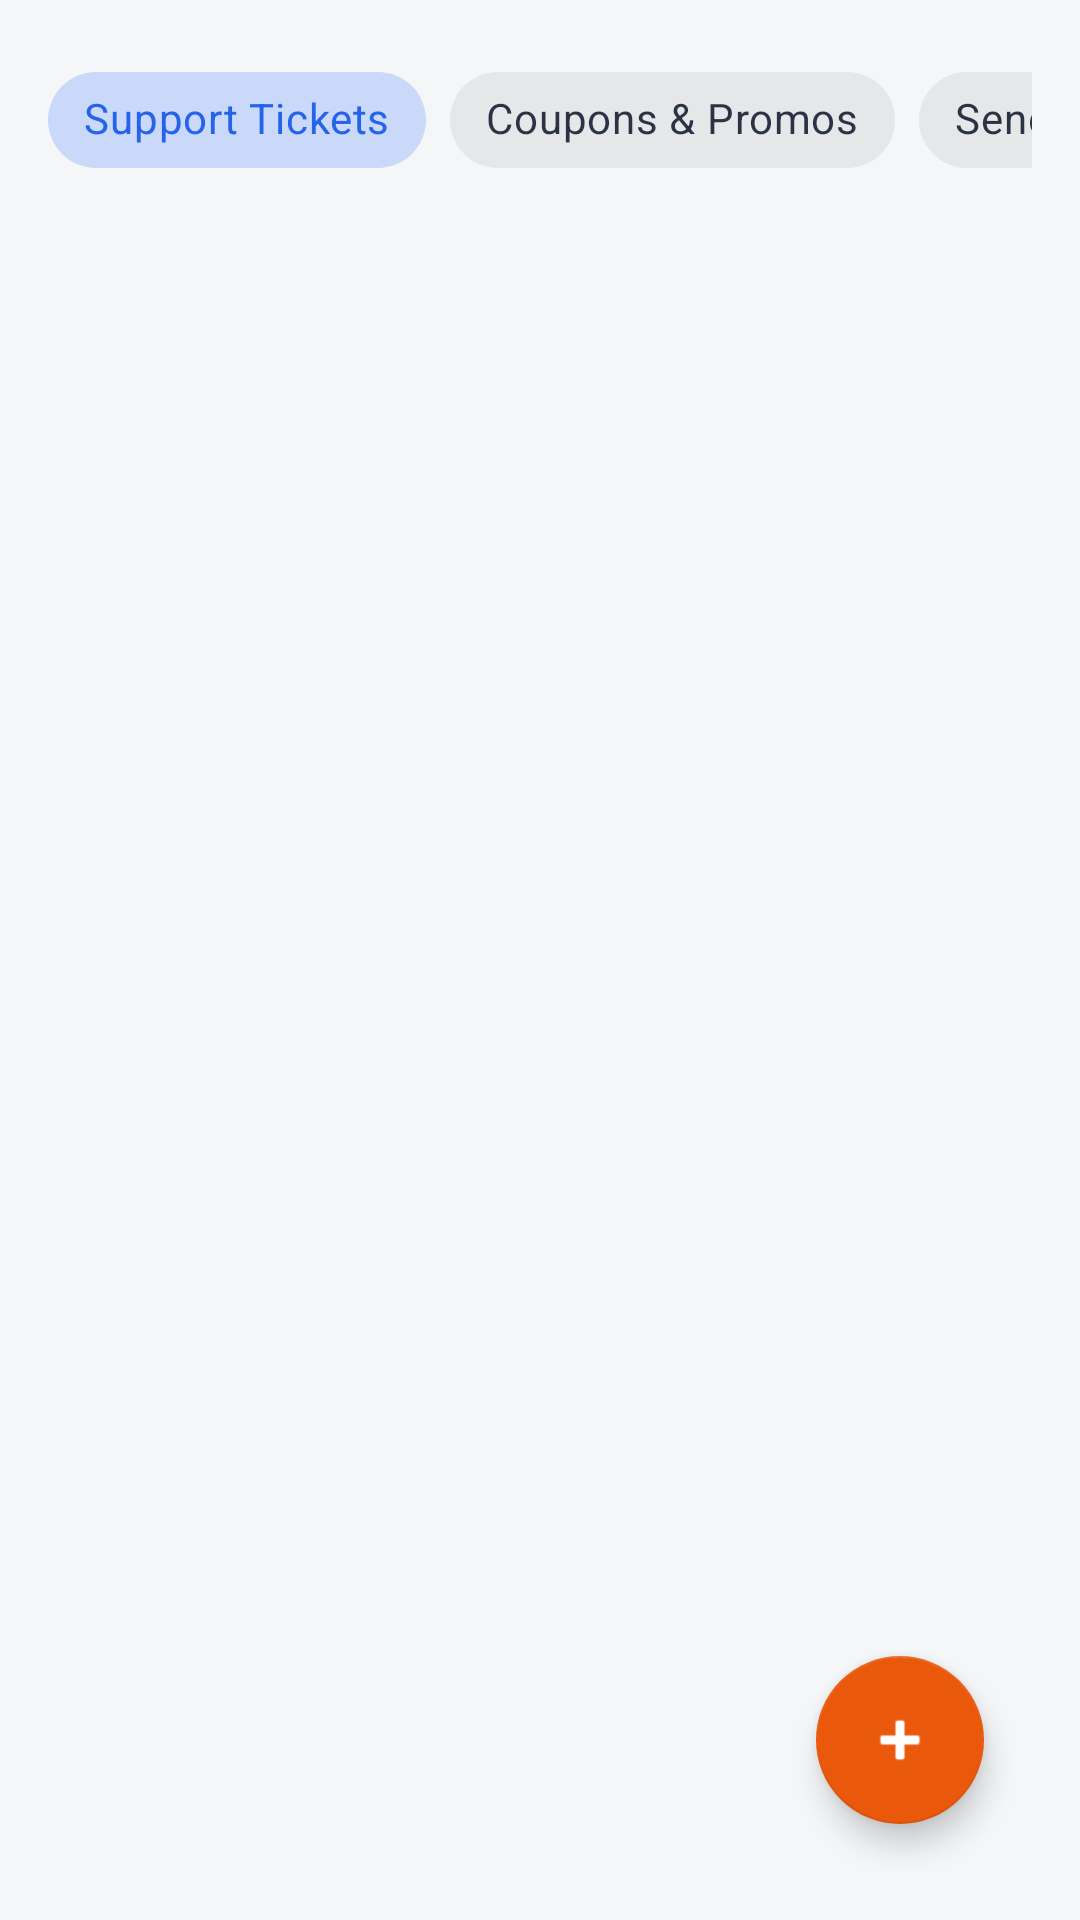

Icons on this 1080 x 1920 Android screen, each with its box as (x1, y1, x2, y2):
Add Coupon or Notification: (816, 1656, 984, 1824)
